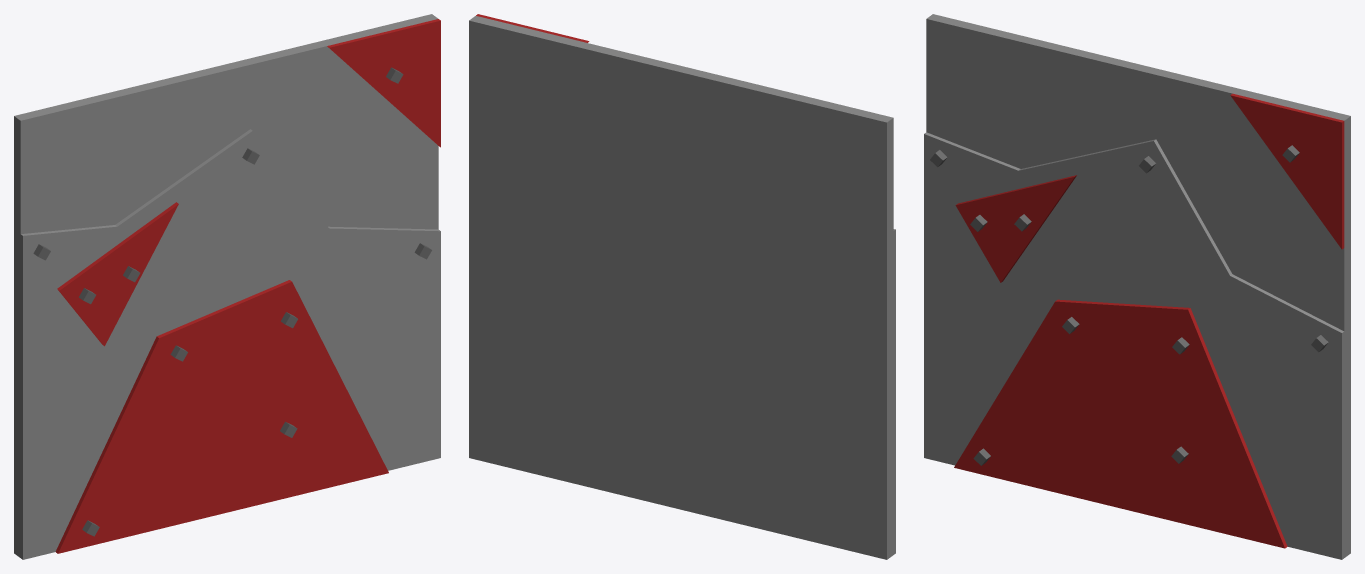
File: Prop_Building_Savage_Metal_Plated_Sheet_Wall_Tile_01.FBX
3 views of the same model, side by side, from view 1: azimuth 30°, elevation 25°; view 2: azimuth 150°, elevation 25°; view 3: azimuth 330°, elevation 25° (orthographic).
Visible parts, largest first — view 1: Prop_Building_Savage_Metal_Plated_Sheet_Wall_Tile_01; view 2: Prop_Building_Savage_Metal_Plated_Sheet_Wall_Tile_01; view 3: Prop_Building_Savage_Metal_Plated_Sheet_Wall_Tile_01.
Boxes of the visible parts, x1,y1,x2,y2 form: Prop_Building_Savage_Metal_Plated_Sheet_Wall_Tile_01: (14, 14, 440, 559); Prop_Building_Savage_Metal_Plated_Sheet_Wall_Tile_01: (469, 14, 895, 559); Prop_Building_Savage_Metal_Plated_Sheet_Wall_Tile_01: (924, 14, 1350, 559).
Size of the model in its own units: 3000 by 3000 by 200.
